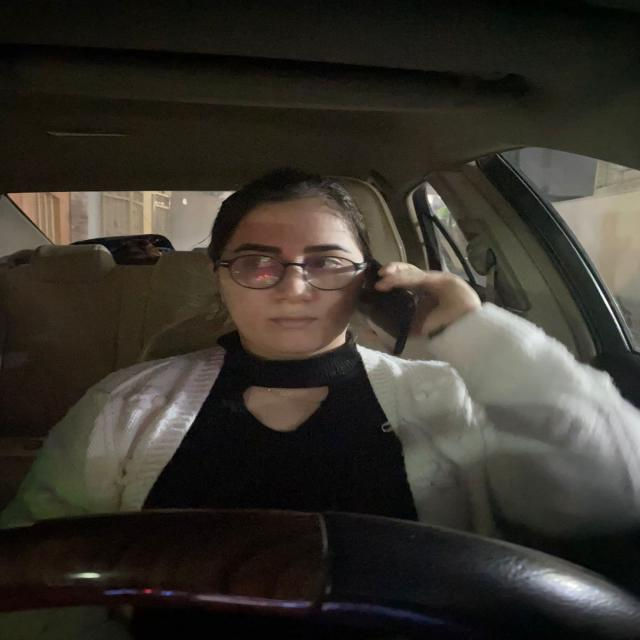mobile: (359, 255, 420, 349)
person: (206, 165, 368, 360)
